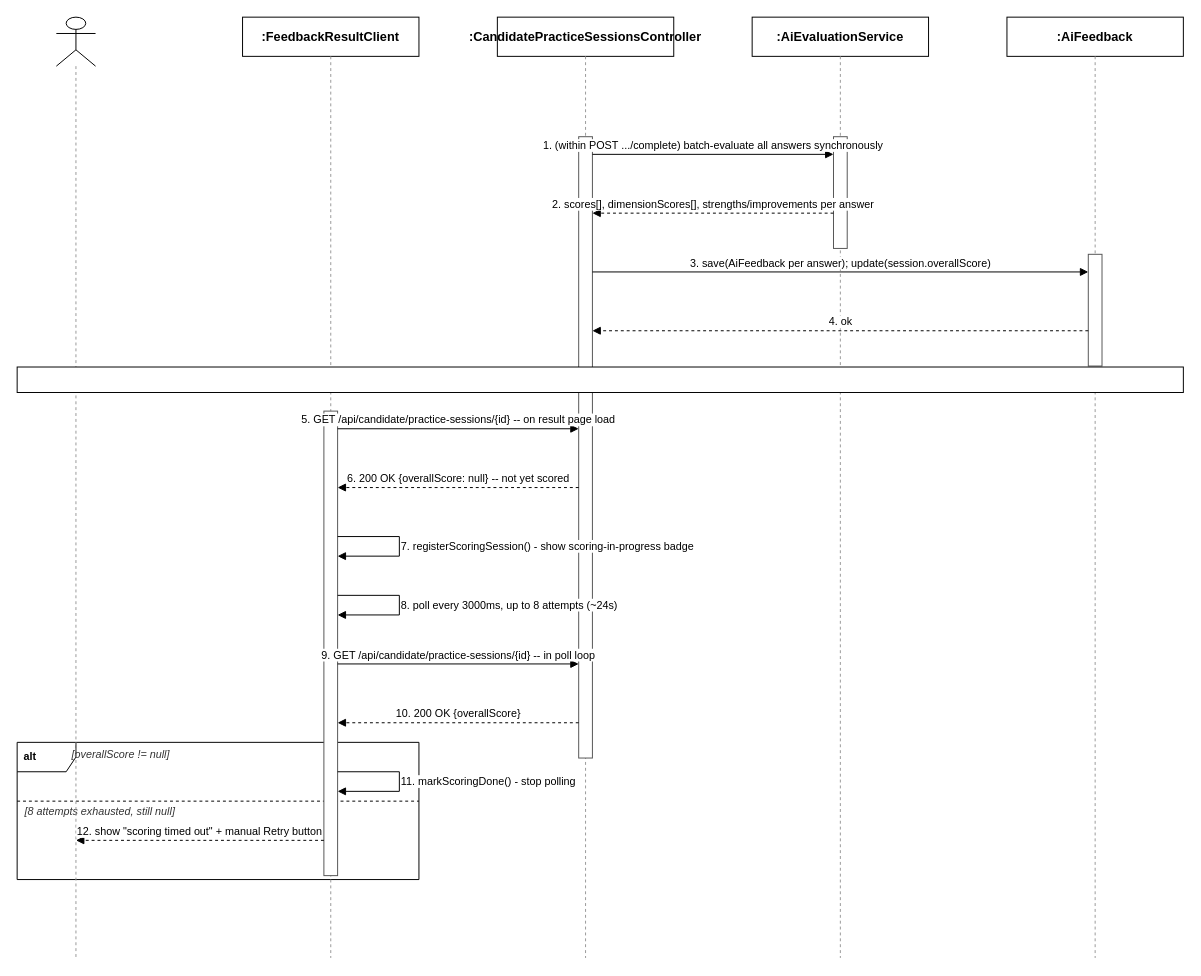
The diagram is 1201 pixels wide and 976 high, and some of its shapes have lost their labels. The shapes that lost their labels are listed below. From the top down, each one's centre as x and y in pixels, then its label:
At point (75, 41): "Job Seeker".
At point (599, 379): "Fallback safety net - if score still null on page load".
